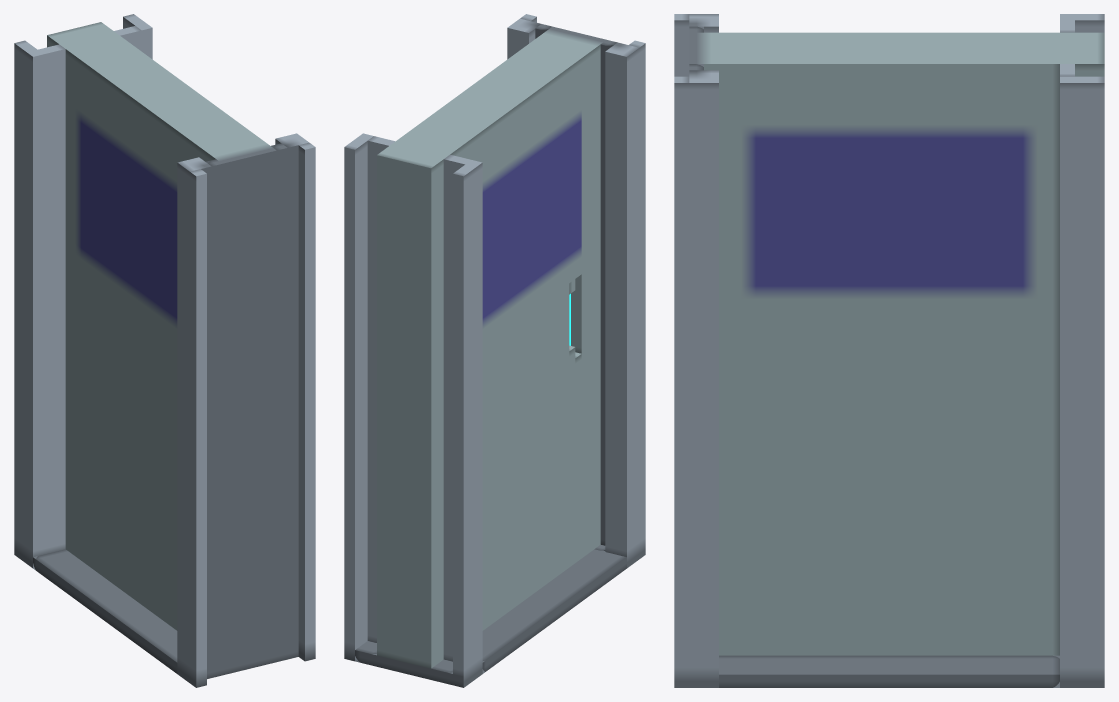
Rendered from dzwi_02_wyjscie.dae.
The picture shows the model from 3 angles, left to right: view 1: azimuth 30°, elevation 25°; view 2: azimuth 150°, elevation 25°; view 3: azimuth 270°, elevation 25°; orthographic projection. The views are drawn at different scales.
Parts seen in each view (by area): view 1: Content; view 2: Content; view 3: Content.
Boxes of the visible parts, x1,y1,x2,y2 form: Content: (14, 14, 315, 687); Content: (344, 14, 645, 687); Content: (674, 14, 1104, 687).
Bounding box in the file's own units: 11 × 45 × 29.
1 material, 1 textured.
